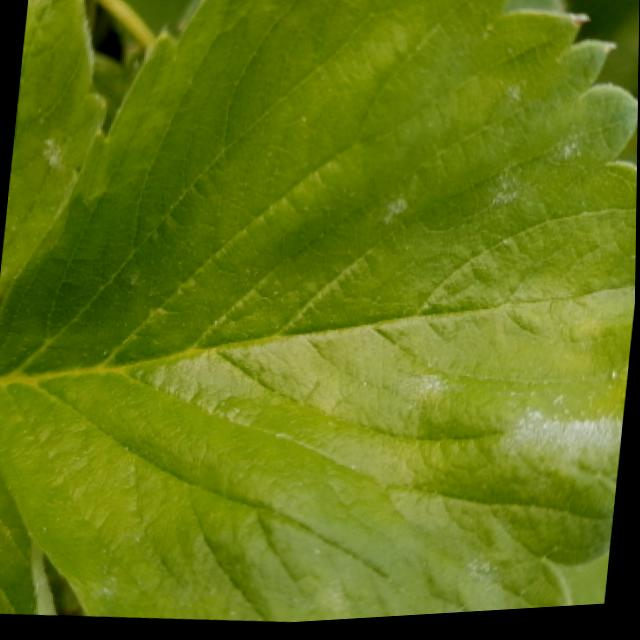Powdery Mildew Leaf: (0, 0, 638, 626)
